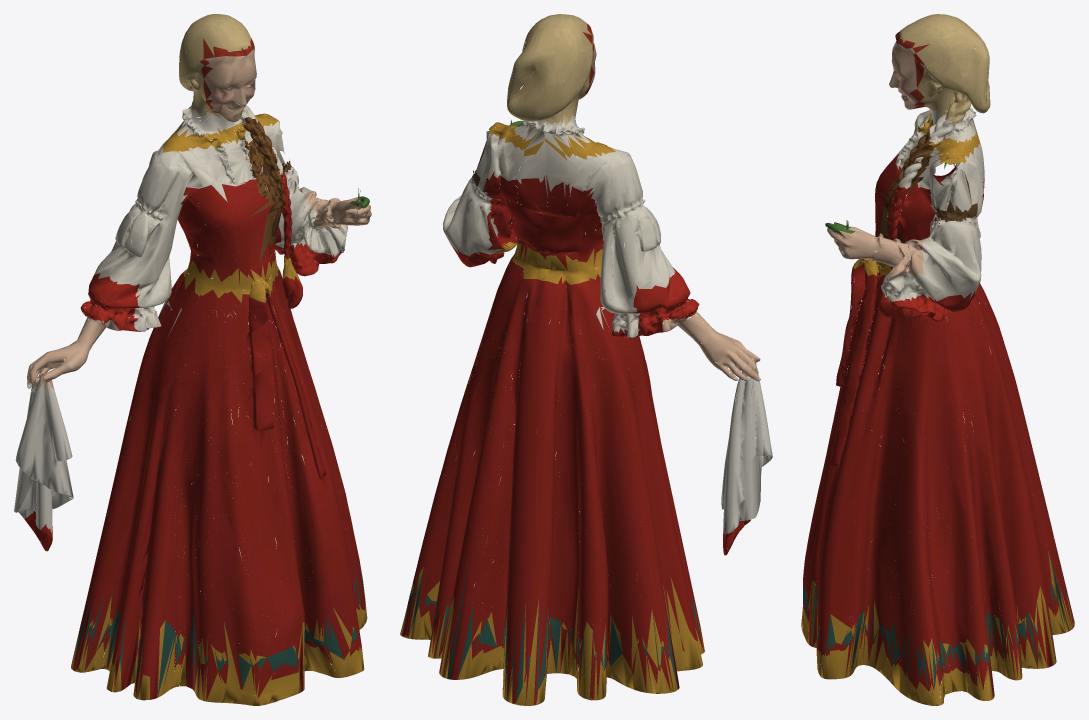
File: vasilisa.glb
3 renders of one model, left to right at view 1: azimuth 30°, elevation 25°; view 2: azimuth 150°, elevation 25°; view 3: azimuth 270°, elevation 25°, orthographic.
Visible parts, largest first — view 1: Object_6, Object_8, Object_7, Object_5, Object_9; view 2: Object_5, Object_6, Object_8, Object_9, Object_7; view 3: Object_6, Object_5, Object_8, Object_7, Object_9.
Boxes of the visible parts, left/top/right/bottom form: Object_6: left=16, top=59, right=366, bottom=705; Object_8: left=42, top=14, right=370, bottom=700; Object_7: left=20, top=55, right=371, bottom=705; Object_5: left=14, top=113, right=329, bottom=687; Object_9: left=16, top=14, right=367, bottom=667; Object_5: left=400, top=120, right=772, bottom=705; Object_6: left=407, top=60, right=772, bottom=668; Object_8: left=489, top=14, right=704, bottom=671; Object_9: left=417, top=14, right=770, bottom=702; Object_7: left=459, top=40, right=770, bottom=445; Object_6: left=801, top=50, right=1009, bottom=705; Object_5: left=832, top=125, right=1074, bottom=705; Object_8: left=837, top=14, right=989, bottom=695; Object_7: left=801, top=48, right=990, bottom=664; Object_9: left=917, top=16, right=1066, bottom=703.
Size of the model in its own units: 1.11 by 1.9 by 0.7599.
